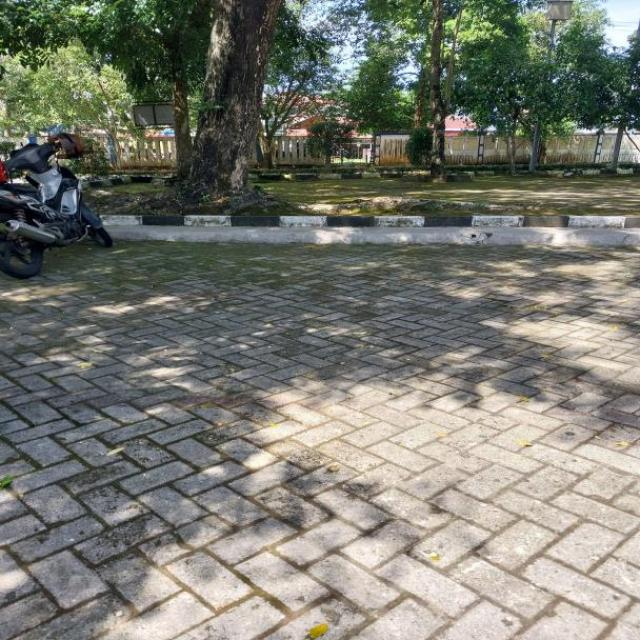motorcycle ahead at: (6, 143, 112, 277)
tree ahead at: (169, 0, 292, 210)
